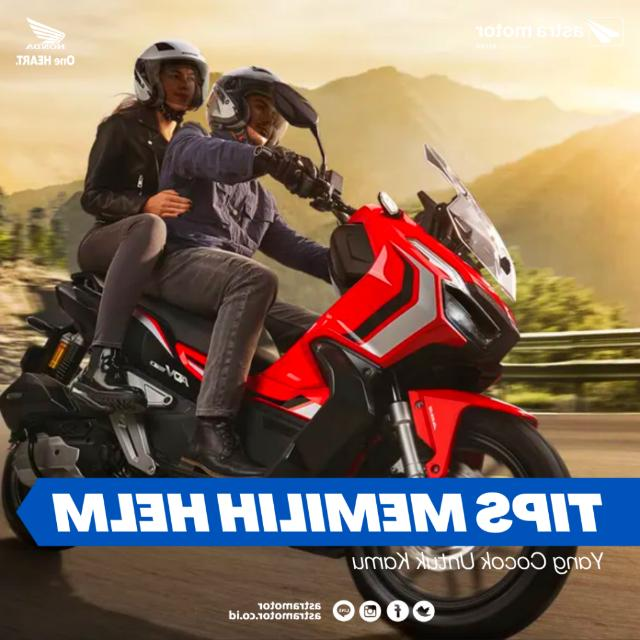helm: (210, 64, 296, 146), (132, 34, 209, 124)
motor: (11, 140, 583, 640)
